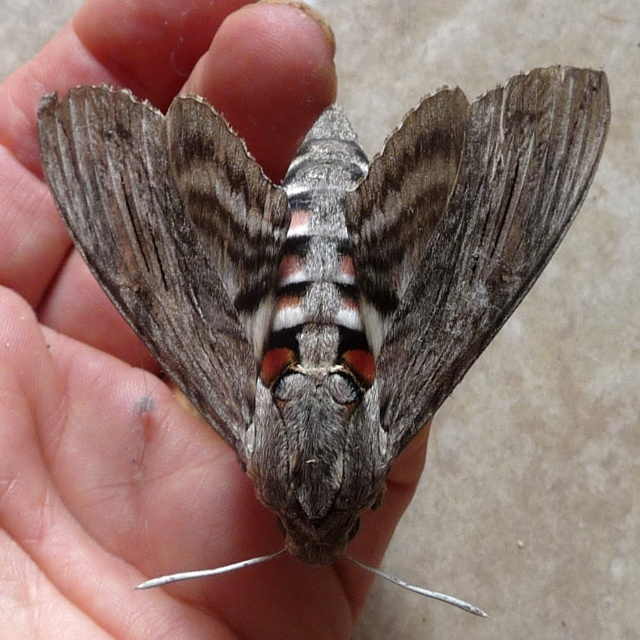Moths and butterflies: (37, 66, 612, 617)
